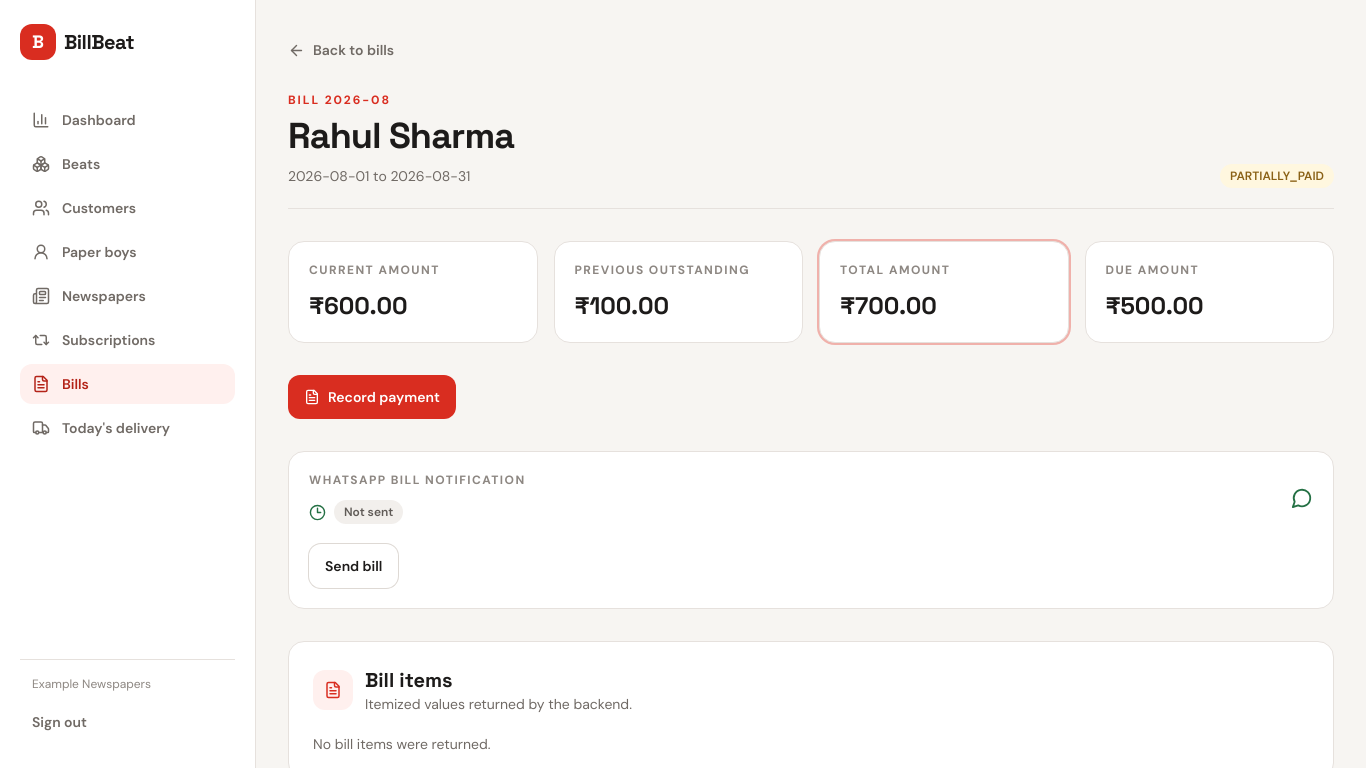
Test: WhatsApp Bill Detail UI › shows normalized backend send errors
The width and height of the screenshot is (1366, 768).
Click the button "Send bill": (354, 566) [309, 544, 398, 588]
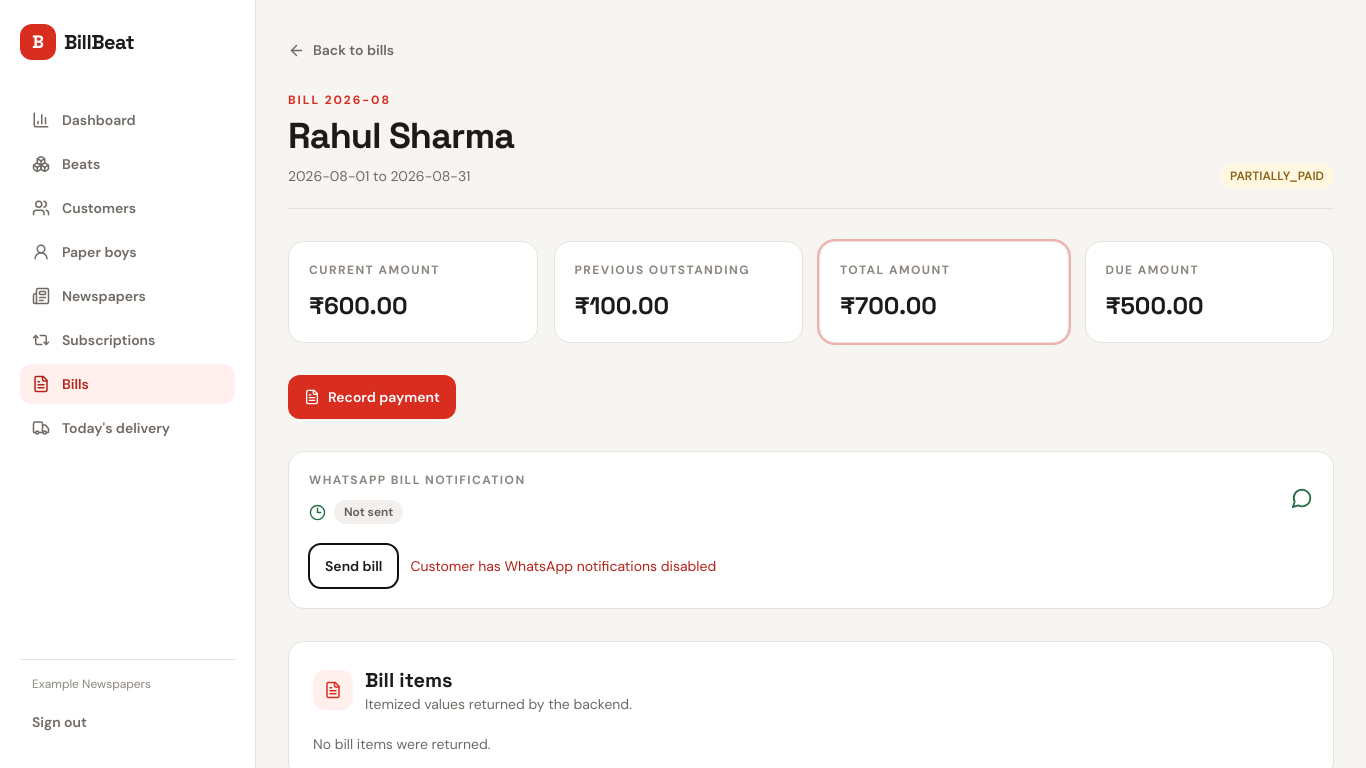
Expected: the text "Customer has WhatsApp notifications disabled" is shown, [410, 556, 716, 576]
